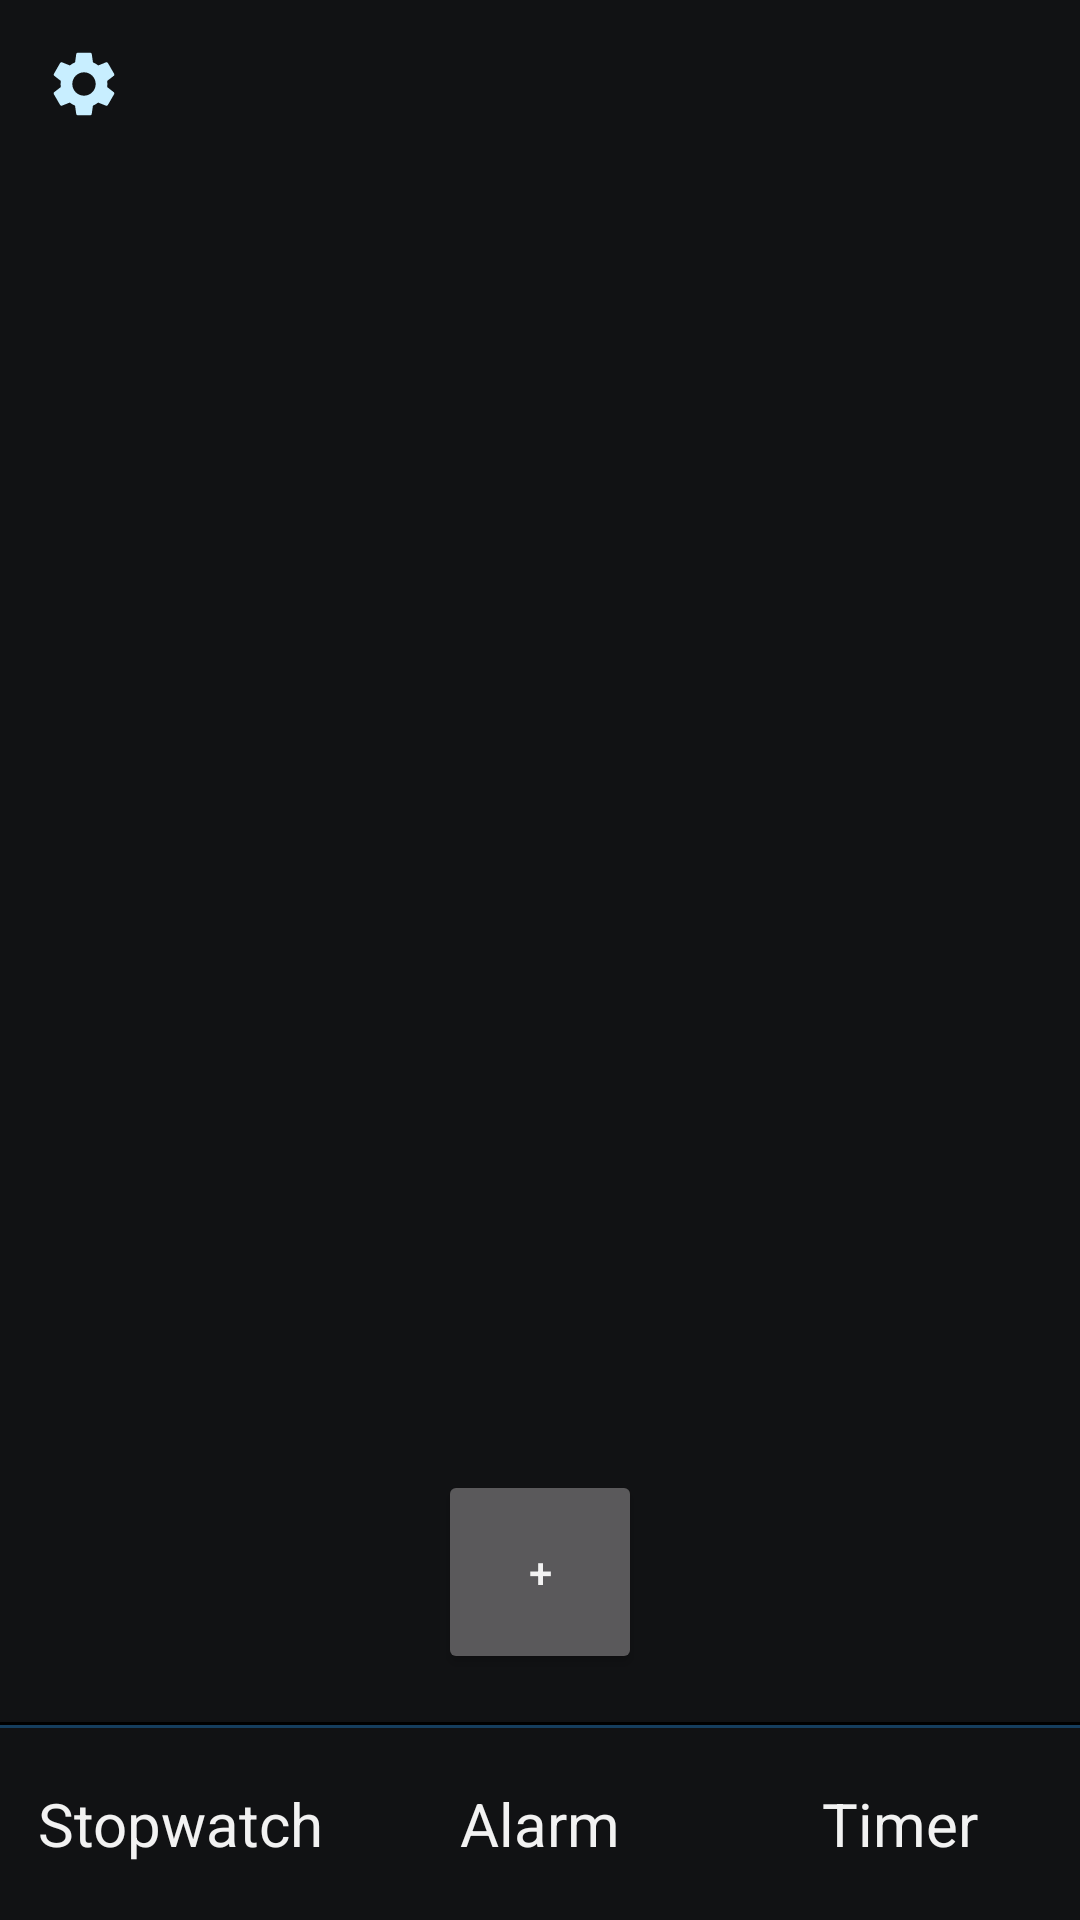

Screen size 1080x1920. Icon name, then its box in pixels as [left=x1, top=y1, right=x2, bottom=y2]:
Settings: [left=53, top=52, right=115, bottom=116]
